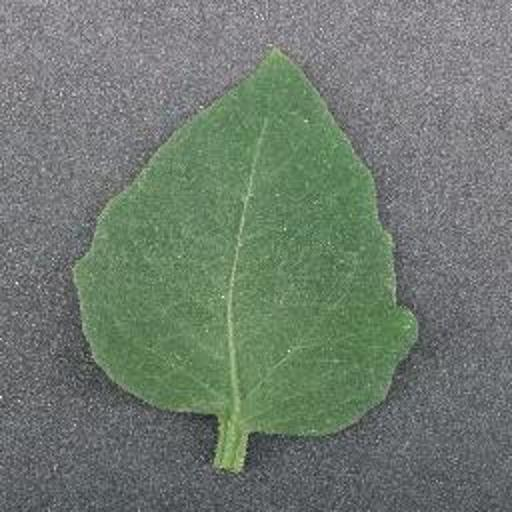Healthy: (78, 38, 423, 475)
